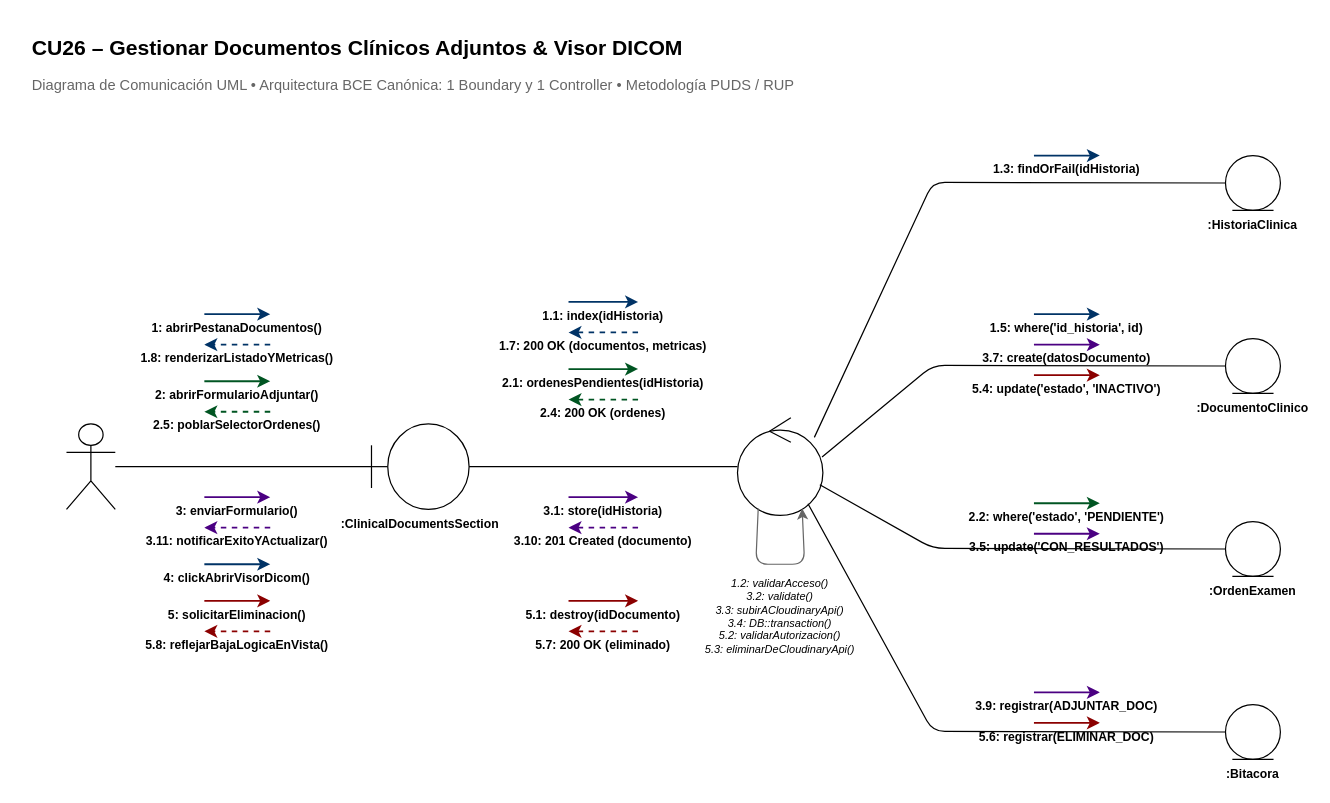
This 1330x803 diagram has some shape labels left out. The shapes that lost their labels are listed below. From the top down, each one's box as (x1, y1, x2, y2) in pixels, then its label:
(65, 423, 115, 509): :Médico / Administrador
(736, 417, 823, 515): :DocumentosClinicosController
